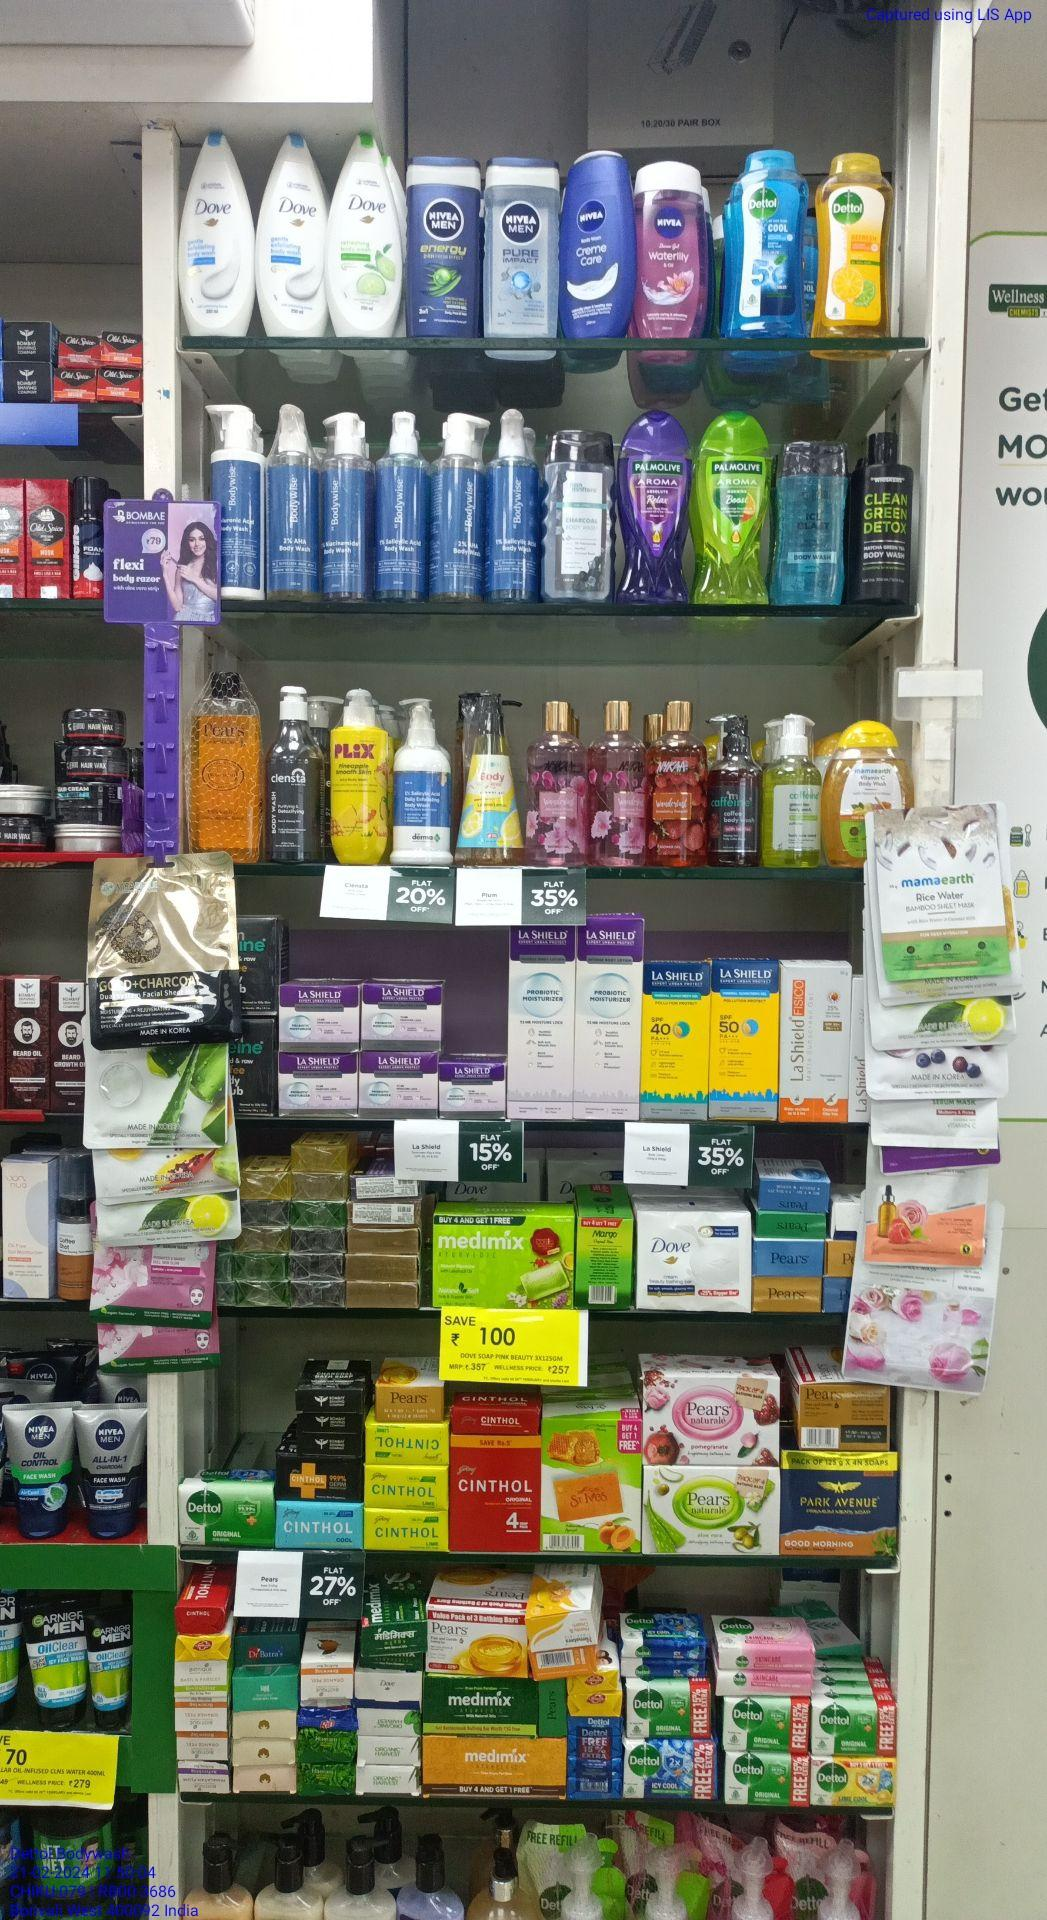Dettol_Bodywash_Cool: (721, 144, 810, 338)
Dettol_Bodywash_Refresh: (812, 150, 891, 338)
Dove_Gentle_Exfoliating_Body_Wash_250ML: (177, 130, 255, 337), (257, 128, 325, 337)
Dove_Refreshing_Body_Wash_250ML: (322, 129, 405, 335)
Nivea_Creme_Care_Body_Wash_250ML: (560, 150, 638, 334)
Nivea_Shower_Gel_Waterlily_and_Oil_250ML: (634, 159, 703, 337)
Palmolive_Aroma_Morning_Tonic_Shower_Gel_250ML: (691, 405, 770, 606)
Palmolive_Aroma_Relax_250ML: (612, 407, 694, 602)
